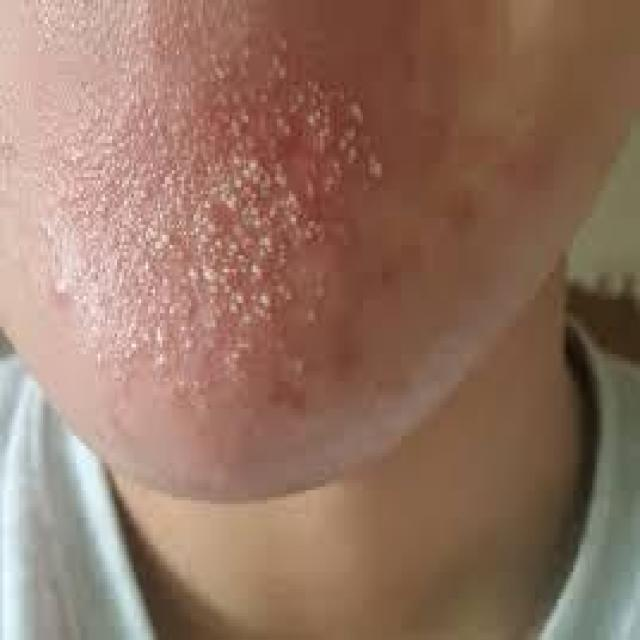comedone: (287, 68, 396, 207), (215, 187, 328, 302), (126, 225, 218, 356), (210, 140, 288, 236)
papule: (24, 249, 86, 347)
